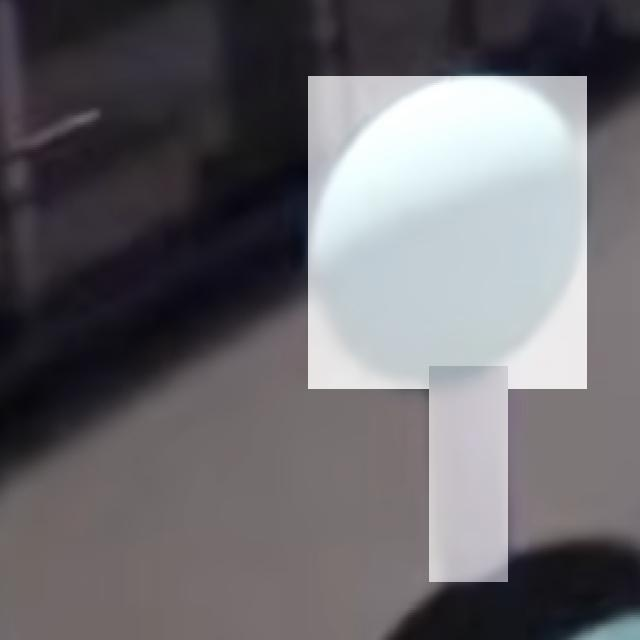Algae: (308, 76, 587, 389)
Coral: (429, 366, 508, 582)
